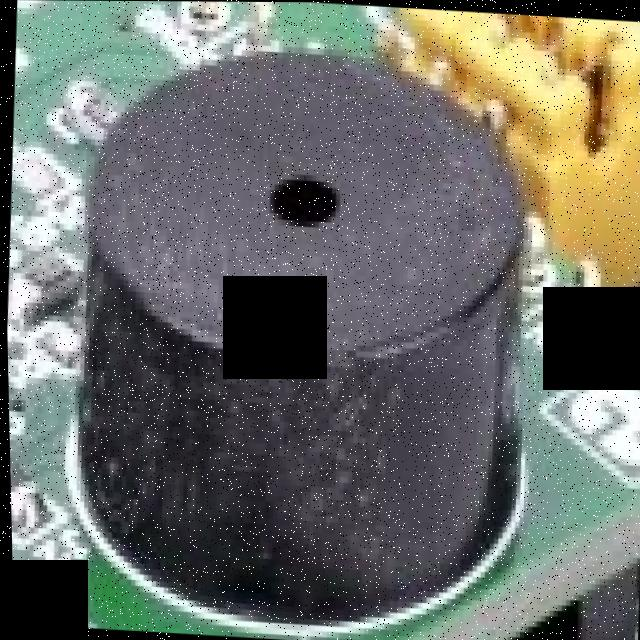buzzer: (48, 27, 547, 625)
